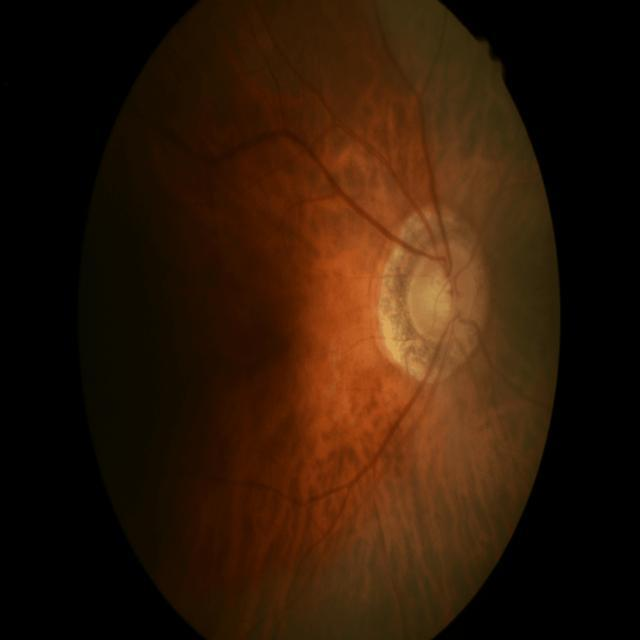cup: (428, 259, 464, 328)
disk: (407, 238, 479, 344)
